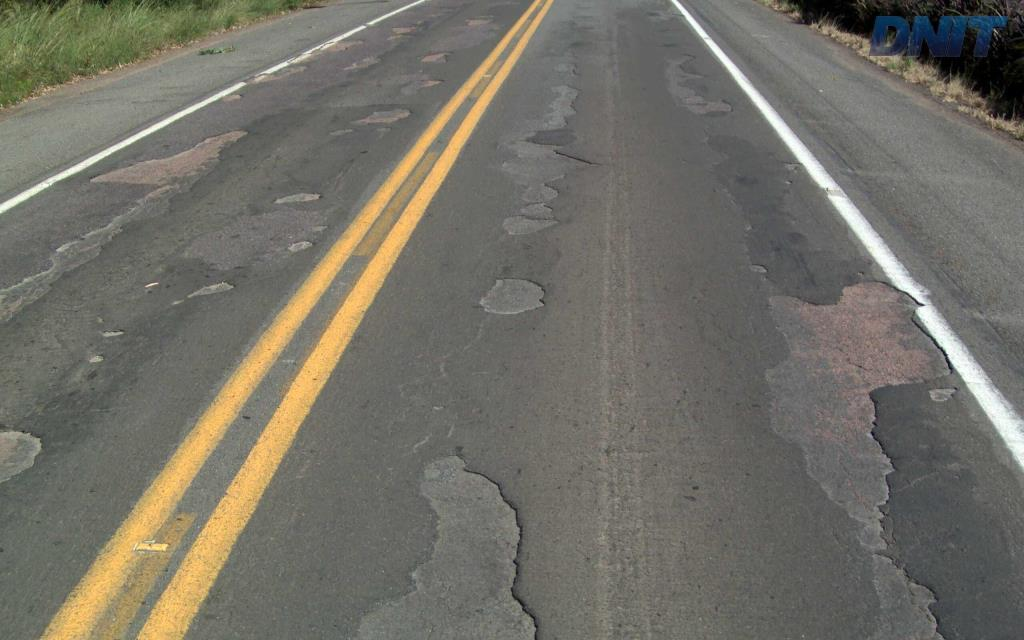pothole: (748, 265, 969, 638), (342, 441, 555, 638), (491, 138, 606, 241), (658, 47, 737, 116), (476, 267, 559, 327), (537, 80, 583, 135), (918, 385, 956, 406), (741, 253, 771, 277)
